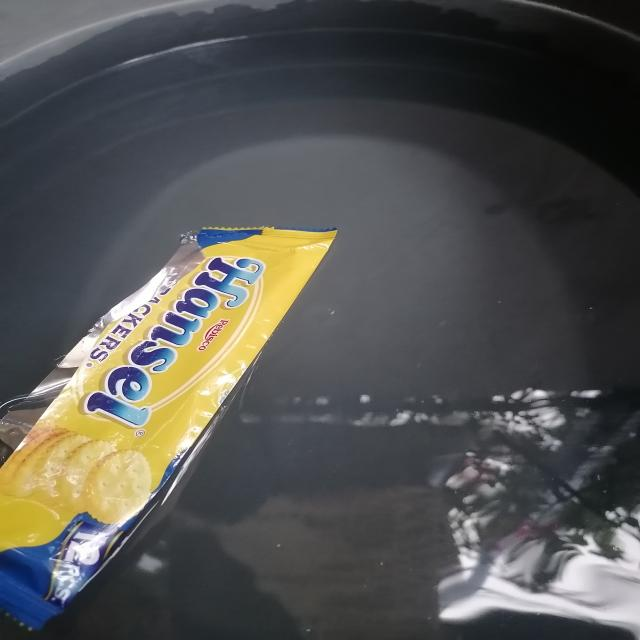Plastic Wrapper: (0, 228, 336, 625)
